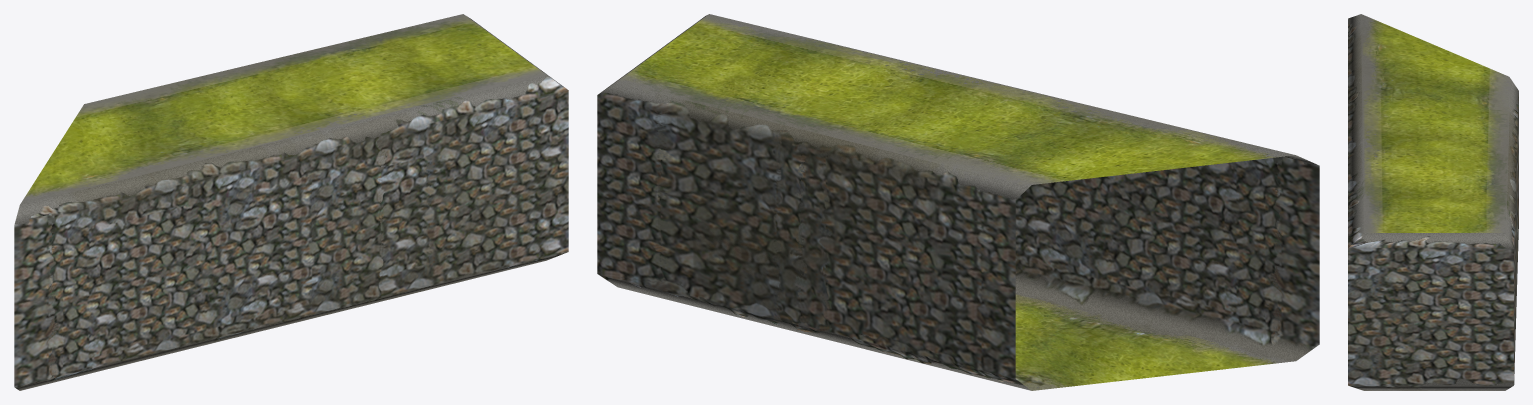
The model's file is Temple_Wall_Cap_Short_01.fbx.
The picture shows the model from 3 angles, left to right: view 1: azimuth 30°, elevation 25°; view 2: azimuth 150°, elevation 25°; view 3: azimuth 270°, elevation 25°; orthographic projection. The views are drawn at different scales.
Parts seen in each view (by area): view 1: Wall; view 2: Wall; view 3: Wall.
Part boxes in pixels (x1,y1,x2,y2): Wall: (14, 14, 568, 390); Wall: (597, 14, 1319, 390); Wall: (1348, 14, 1518, 390).
Bounding box in the file's own units: 3.82 × 1.22 × 1.2.
Materials: 1 (1 with a texture image).
